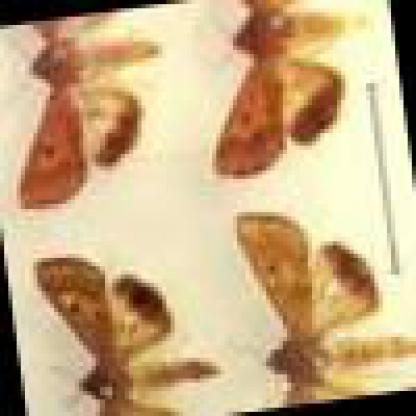helicoverpa: (236, 211, 412, 406), (37, 255, 221, 412), (18, 13, 166, 207), (215, 0, 369, 179)
